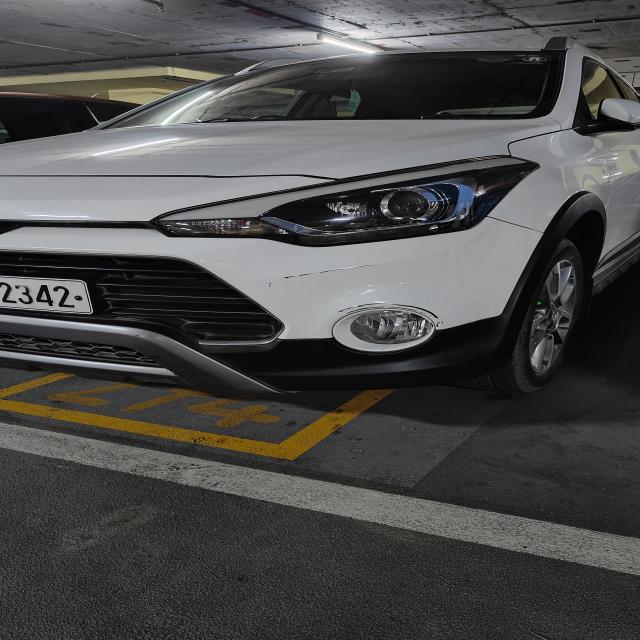scratch: (254, 256, 418, 288), (322, 300, 384, 314)
